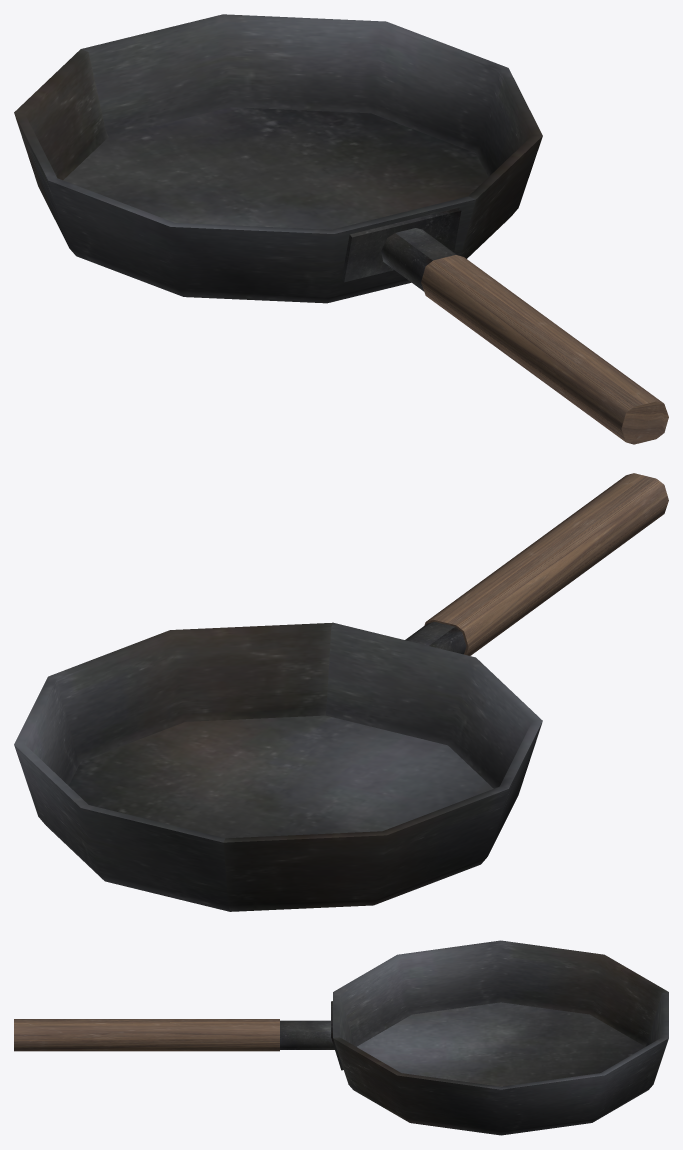
File: pan03.fbx
3 renders of one model, top to bottom at view 1: azimuth 30°, elevation 25°; view 2: azimuth 150°, elevation 25°; view 3: azimuth 270°, elevation 25°, orthographic. The views are drawn at different scales.
Visible parts, largest first — view 1: pan03; view 2: pan03; view 3: pan03.
Part boxes in pixels (bbox=[...]): pan03: bbox=[14, 14, 668, 444]; pan03: bbox=[14, 473, 668, 911]; pan03: bbox=[14, 940, 668, 1135].
Bounding box in the file's own units: 41.34 × 7.08 × 76.67.
